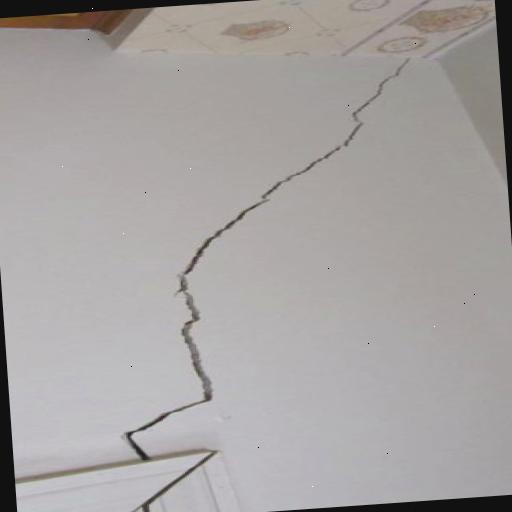spalling: (106, 57, 416, 458)
